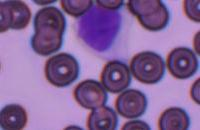L: (75, 4, 130, 60)
